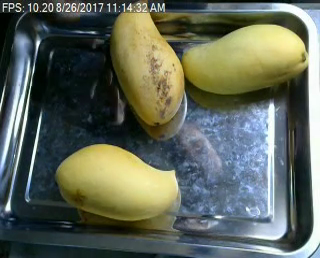Mango: (53, 142, 179, 222), (111, 0, 183, 125), (184, 24, 308, 95)
